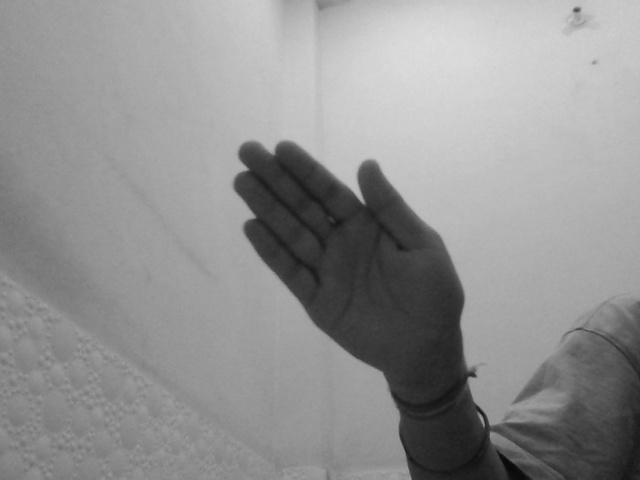Hello: (227, 134, 469, 391)
